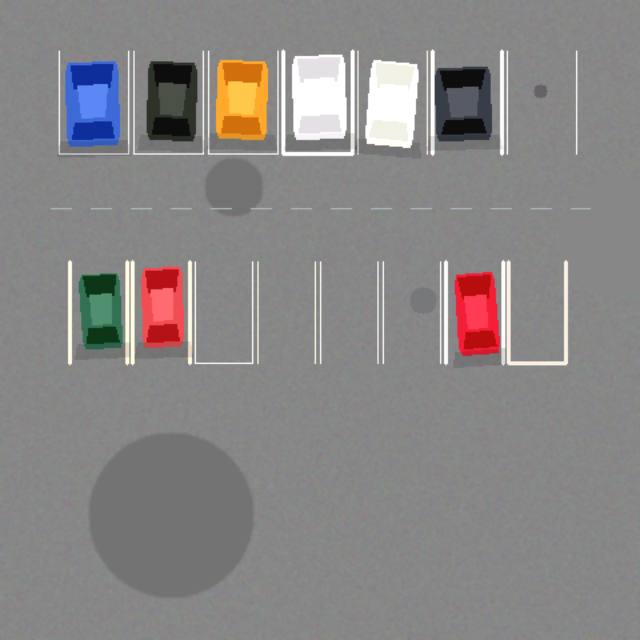space-empty: (507, 51, 576, 153), (257, 261, 315, 363), (195, 261, 252, 363), (320, 261, 377, 363), (383, 261, 440, 363), (508, 261, 565, 363)
space-occupied: (133, 51, 203, 153), (357, 51, 427, 153), (59, 51, 128, 153), (208, 51, 277, 153), (283, 51, 352, 153), (432, 51, 501, 153), (69, 261, 127, 363), (445, 261, 503, 363), (132, 261, 189, 363)
